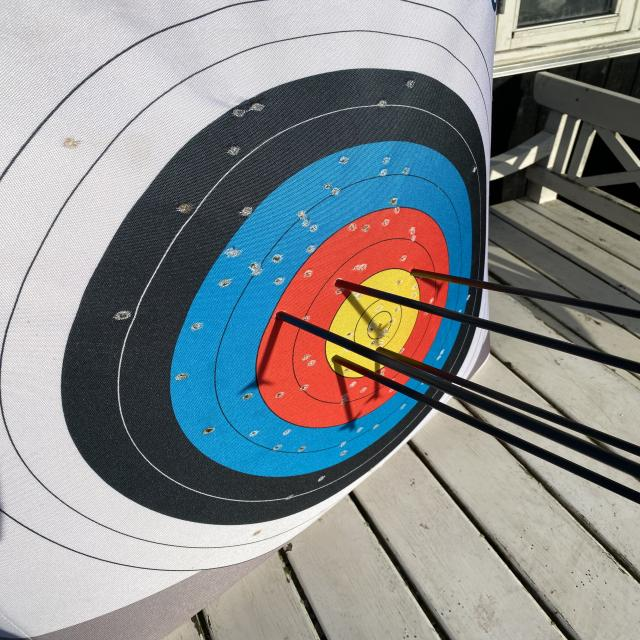Arrow_Red: (320, 264, 369, 306), (251, 296, 310, 330), (395, 253, 443, 289)
Arrow_Yellow: (312, 343, 367, 386), (368, 328, 406, 370)
